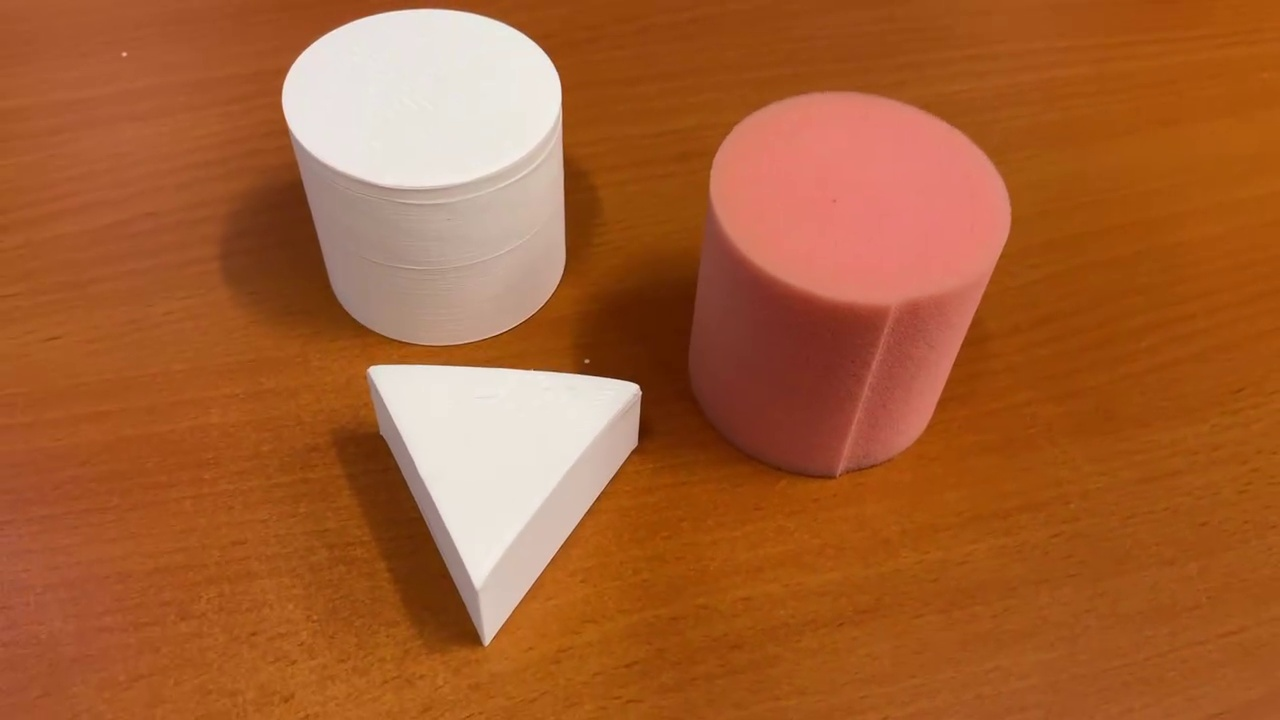Cylinder: (681, 85, 1019, 486), (278, 6, 571, 355)
Triangle_short: (353, 358, 653, 650)
